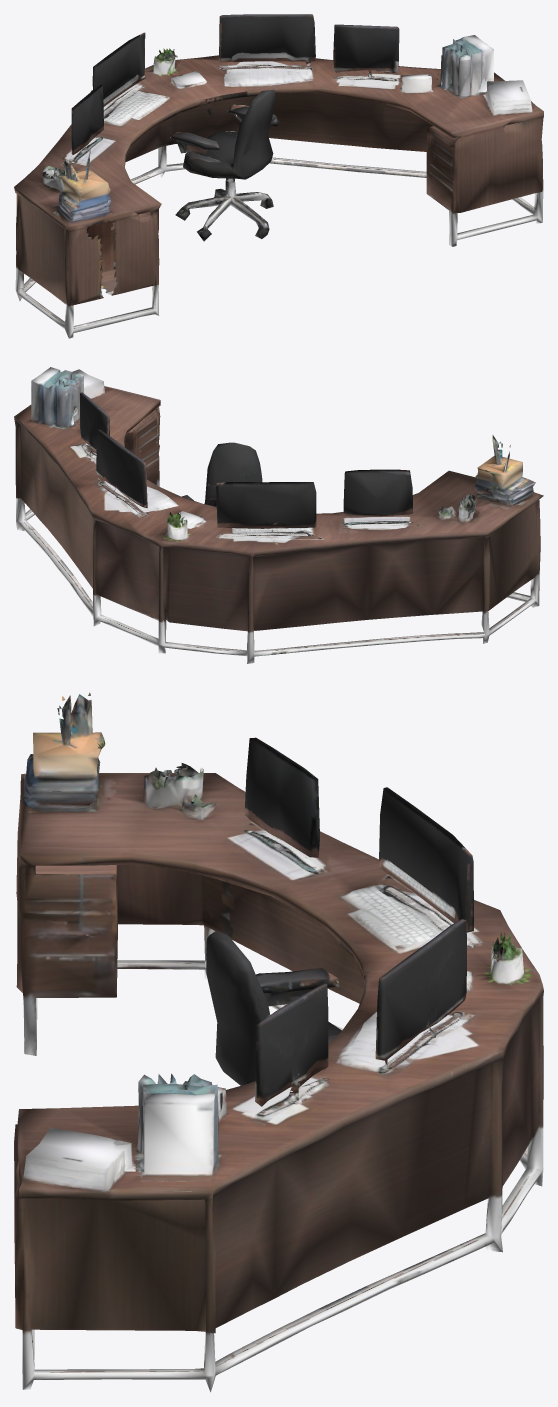
3 renders of one model, top to bottom at view 1: azimuth 30°, elevation 25°; view 2: azimuth 150°, elevation 25°; view 3: azimuth 270°, elevation 25°, orthographic. The views are drawn at different scales.
Visible parts, largest first — view 1: Mesh1.0; view 2: Mesh1.0; view 3: Mesh1.0.
Part boxes in pixels (x1,y1,x2,y2): Mesh1.0: (14,14,543,338); Mesh1.0: (14,367,543,663); Mesh1.0: (14,692,543,1392).
Bounding box in the file's own units: 199 × 69.65 × 106.
Materials: 1 (1 with a texture image).
